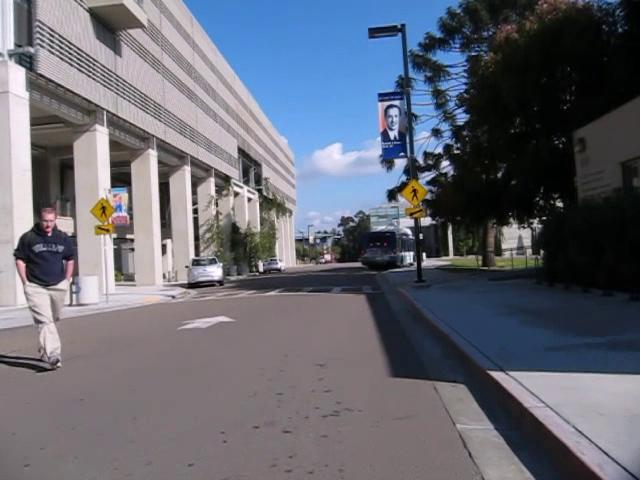pedestrianCrossing: (398, 177, 428, 207), (89, 198, 116, 224)
